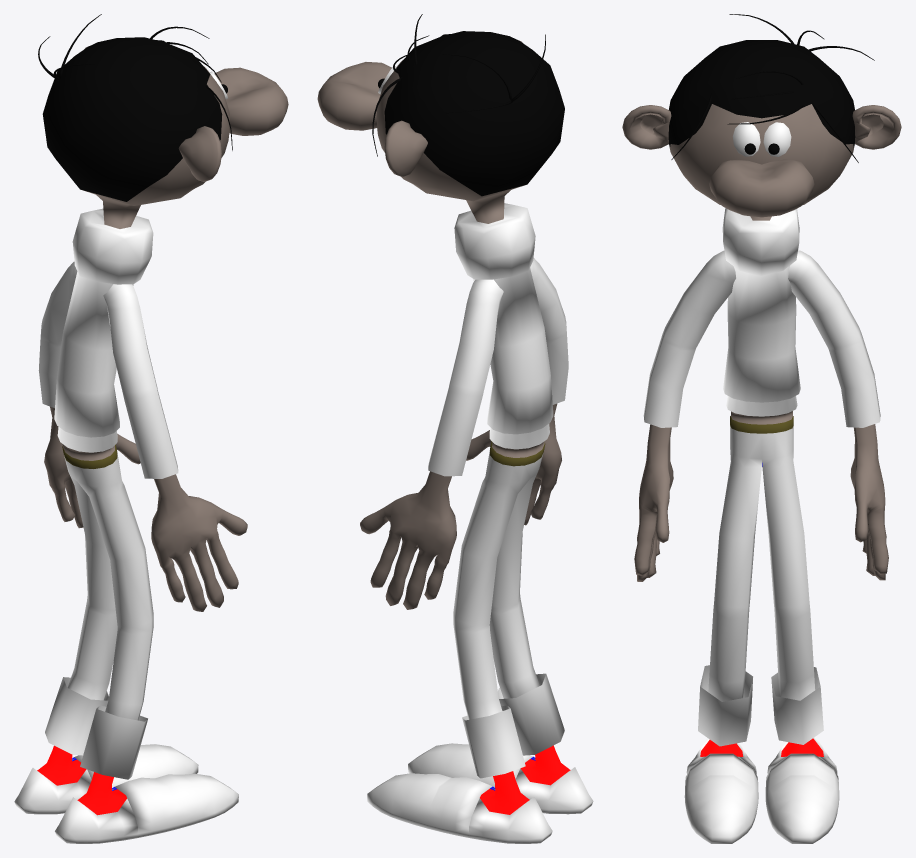
The model's file is spectator_white_tall.dae.
3 renders of one model, left to right at view 1: azimuth 30°, elevation 25°; view 2: azimuth 150°, elevation 25°; view 3: azimuth 270°, elevation 25°, orthographic.
Visible parts, largest first — view 1: Spectator; view 2: Spectator; view 3: Spectator.
Part boxes in pixels (x1,y1,x2,y2): Spectator: (14,14,288,843); Spectator: (317,14,593,843); Spectator: (622,14,901,843).
Size of the model in its own units: 0.6596 by 0.662 by 2.
